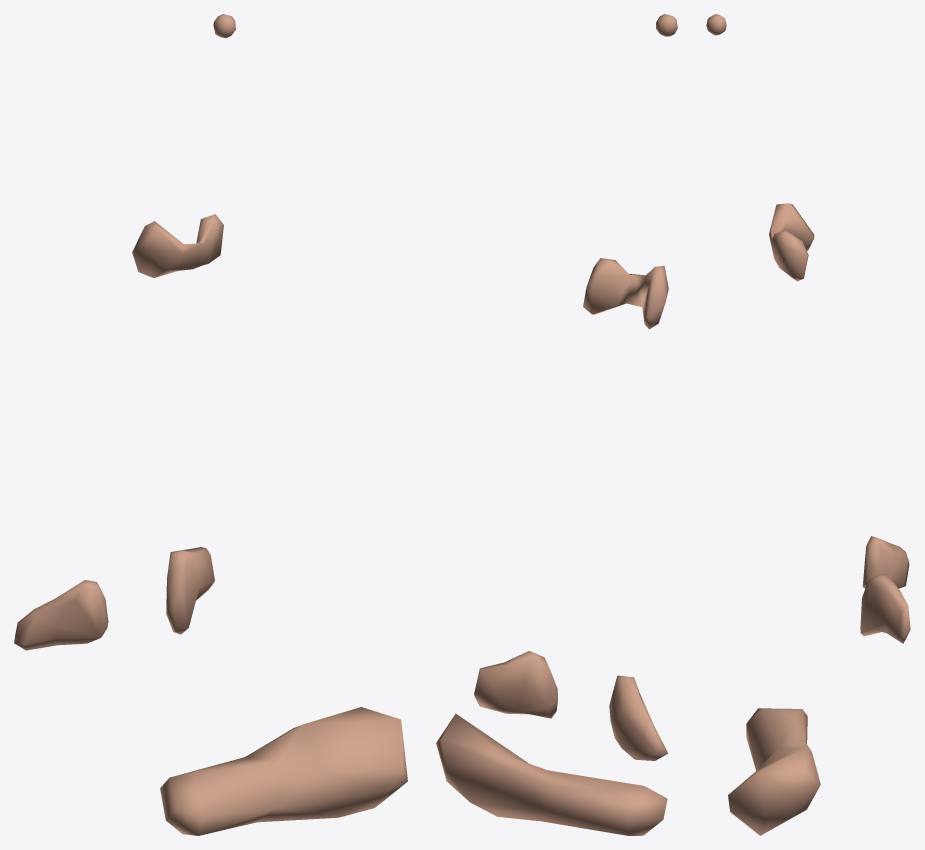
Rendered from pediatric_infant_male.endocrine.LOD3.glb.
3 views of the same model, side by side, from view 1: azimuth 30°, elevation 25°; view 2: azimuth 150°, elevation 25°; view 3: azimuth 270°, elevation 25° (orthographic). The views are drawn at different scales.
Visible parts, largest first — view 1: PEDIATRIC.INFANT.MALE.ENDOCRINE.PANCREAS, PEDIATRIC.INFANT.MALE.ENDOCRINE.ADRENAL.R, PEDIATRIC.INFANT.MALE.ENDOCRINE.THYROID, PEDIATRIC.INFANT.MALE.ENDOCRINE.ADRENAL.L; view 2: PEDIATRIC.INFANT.MALE.ENDOCRINE.PANCREAS, PEDIATRIC.INFANT.MALE.ENDOCRINE.ADRENAL.L, PEDIATRIC.INFANT.MALE.ENDOCRINE.THYROID, PEDIATRIC.INFANT.MALE.ENDOCRINE.ADRENAL.R; view 3: PEDIATRIC.INFANT.MALE.ENDOCRINE.PANCREAS, PEDIATRIC.INFANT.MALE.ENDOCRINE.ADRENAL.L, PEDIATRIC.INFANT.MALE.ENDOCRINE.THYROID, PEDIATRIC.INFANT.MALE.ENDOCRINE.ADRENAL.R.
Part boxes in pixels (x1,y1,x2,y2): PEDIATRIC.INFANT.MALE.ENDOCRINE.PANCREAS: [160, 707, 407, 835]; PEDIATRIC.INFANT.MALE.ENDOCRINE.ADRENAL.R: [14, 580, 108, 650]; PEDIATRIC.INFANT.MALE.ENDOCRINE.THYROID: [132, 214, 223, 277]; PEDIATRIC.INFANT.MALE.ENDOCRINE.ADRENAL.L: [166, 547, 214, 634]; PEDIATRIC.INFANT.MALE.ENDOCRINE.PANCREAS: [436, 713, 667, 835]; PEDIATRIC.INFANT.MALE.ENDOCRINE.ADRENAL.L: [474, 651, 557, 718]; PEDIATRIC.INFANT.MALE.ENDOCRINE.THYROID: [583, 258, 668, 329]; PEDIATRIC.INFANT.MALE.ENDOCRINE.ADRENAL.R: [609, 675, 667, 760]; PEDIATRIC.INFANT.MALE.ENDOCRINE.PANCREAS: [728, 708, 820, 835]; PEDIATRIC.INFANT.MALE.ENDOCRINE.ADRENAL.L: [860, 574, 910, 643]; PEDIATRIC.INFANT.MALE.ENDOCRINE.THYROID: [769, 203, 814, 281]; PEDIATRIC.INFANT.MALE.ENDOCRINE.ADRENAL.R: [862, 536, 909, 588].
Bounding box in the file's own units: 0.1012 × 0.2684 × 0.0664.
